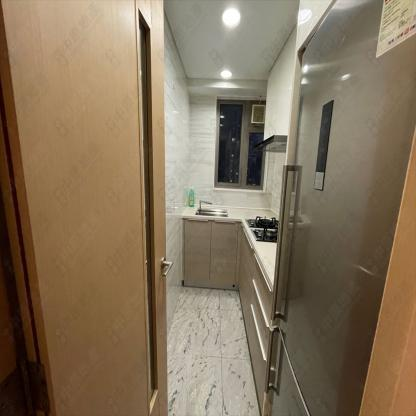Cupboard: (183, 217, 272, 414)
Exhaust Fan: (250, 103, 266, 123)
Exhaust Hood: (252, 134, 287, 152)
Faucet: (198, 198, 211, 208)
Fridge: (264, 0, 416, 415)
Sink: (195, 207, 227, 216)
Stove: (245, 215, 278, 243)
